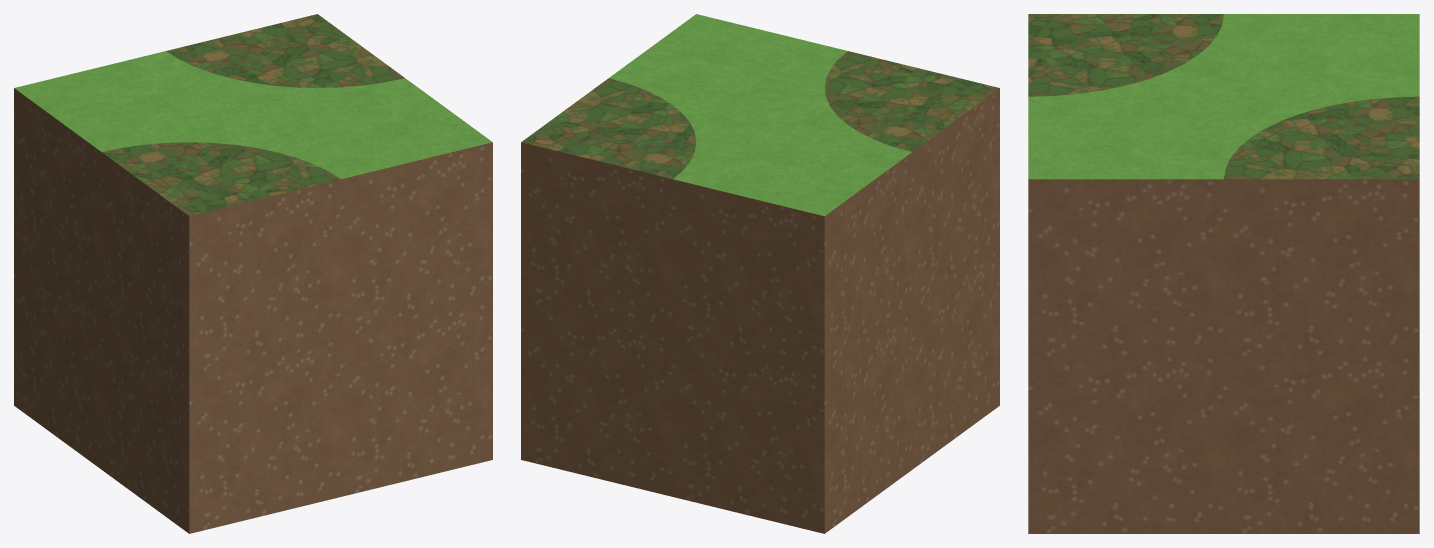
Rendered from Forest_Diagonal_F.fbx.
3 renders of one model, left to right at view 1: azimuth 30°, elevation 25°; view 2: azimuth 150°, elevation 25°; view 3: azimuth 270°, elevation 25°, orthographic. The views are drawn at different scales.
Visible parts, largest first — view 1: Forest_Diagonal_F; view 2: Forest_Diagonal_F; view 3: Forest_Diagonal_F.
Part boxes in pixels (box(x1,y1,x2,y2)): Forest_Diagonal_F: box(14, 14, 492, 533); Forest_Diagonal_F: box(521, 14, 999, 533); Forest_Diagonal_F: box(1028, 14, 1419, 533).
Bounding box in the file's own units: 3 × 3 × 3.
3 materials, 3 textured.
